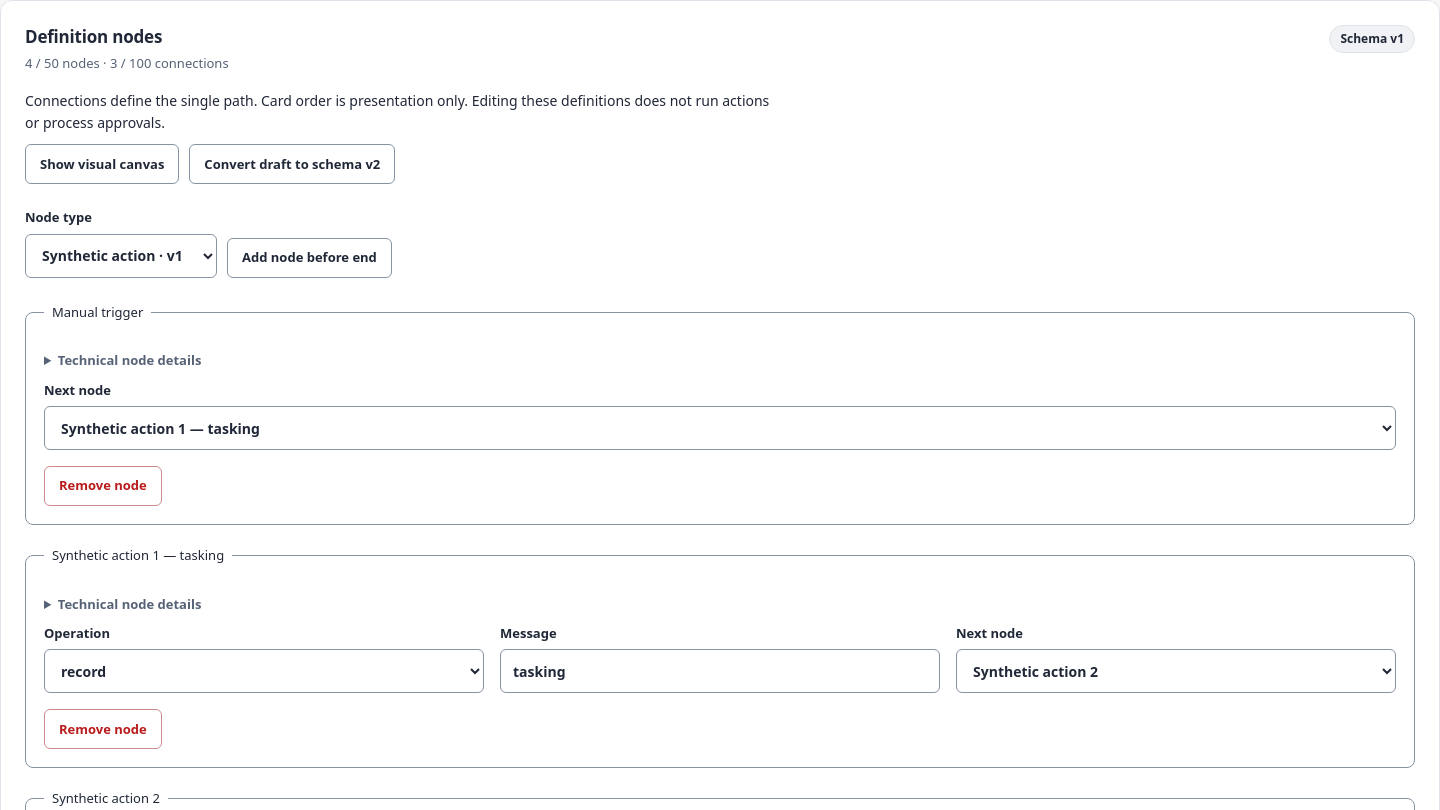
Test: distinguishes repeated types and uses the same friendly names for headings and connections
This screenshot has width=1440, height=810.
Click the heading "Technical node details" below "Synthetic action 1 — tasking" at {"x": 130, "y": 604}, box [58,595,201,613]
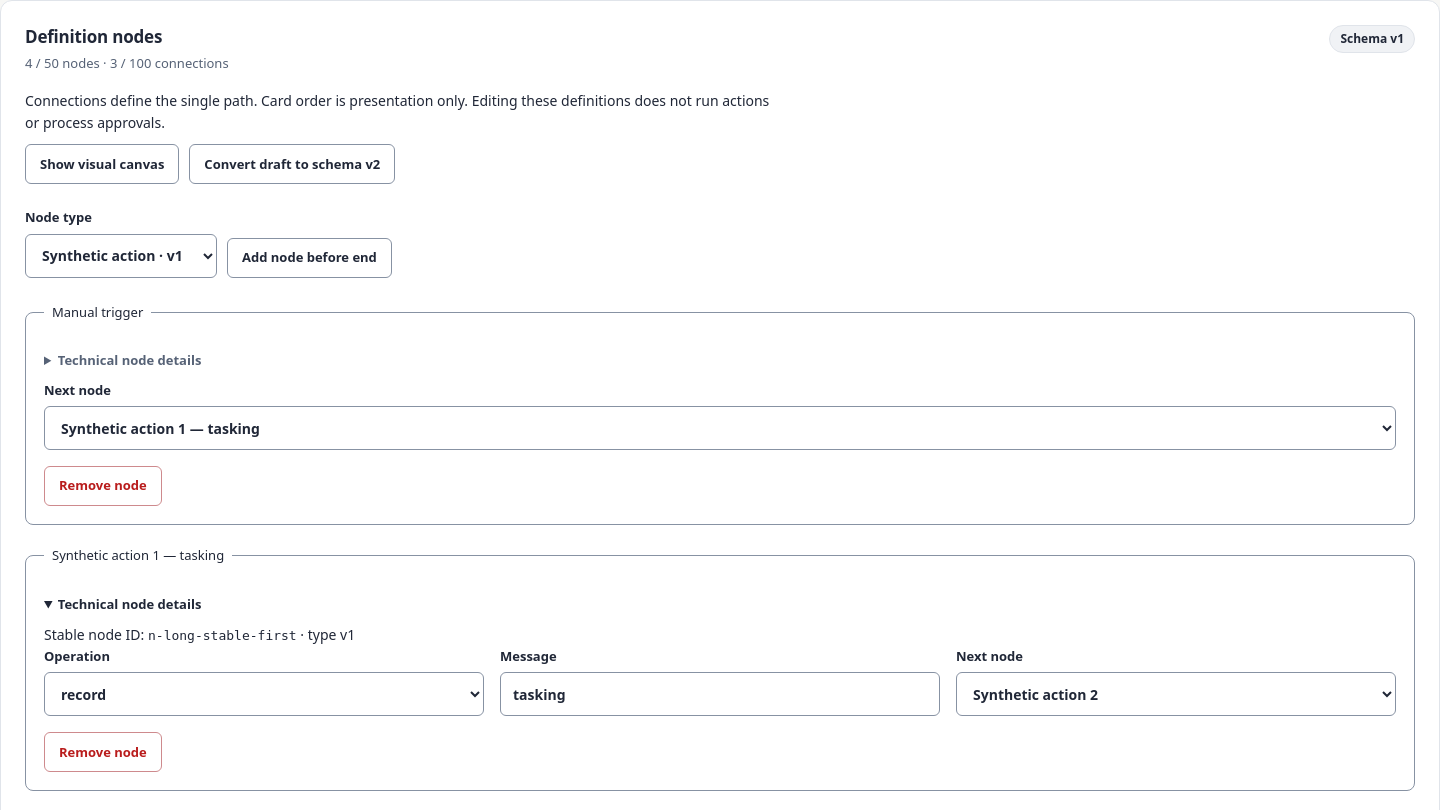
Expected: the text "n-long-stable-first" is shown, [148,628,297,643]
